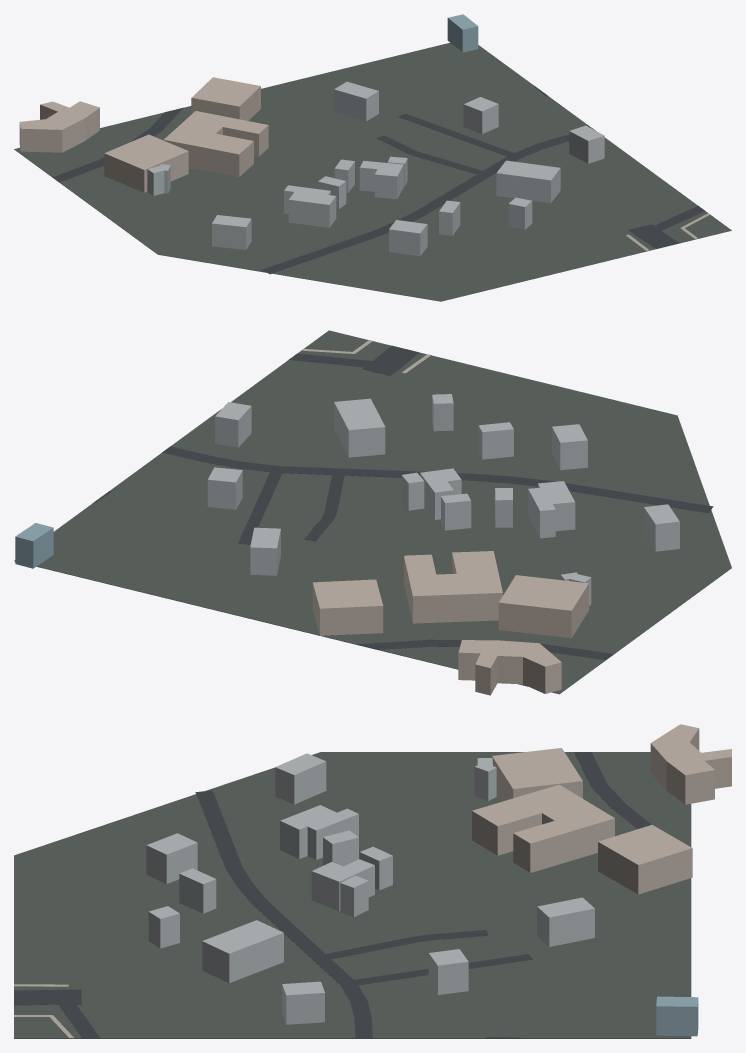
Rendered from tile_002_002.glb.
The picture shows the model from 3 angles, top to bottom: view 1: azimuth 30°, elevation 25°; view 2: azimuth 150°, elevation 25°; view 3: azimuth 270°, elevation 25°; orthographic projection. The views are drawn at different scales.
Parts seen in each view (by area): view 1: tile_002_002_ground, tile_002_002_buildings_neutral, tile_002_002_buildings_residential, tile_002_002_roads, tile_002_002_buildings_office; view 2: tile_002_002_ground, tile_002_002_buildings_residential, tile_002_002_buildings_neutral, tile_002_002_roads, tile_002_002_buildings_office; view 3: tile_002_002_ground, tile_002_002_buildings_neutral, tile_002_002_buildings_residential, tile_002_002_roads, tile_002_002_buildings_office.
Part boxes in pixels (x1,y1,x2,y2): tile_002_002_ground: [14, 42, 731, 301]; tile_002_002_buildings_neutral: [147, 81, 604, 256]; tile_002_002_buildings_residential: [19, 77, 268, 192]; tile_002_002_roads: [53, 86, 704, 274]; tile_002_002_buildings_office: [447, 14, 478, 52]; tile_002_002_ground: [14, 330, 731, 694]; tile_002_002_buildings_residential: [312, 551, 588, 695]; tile_002_002_buildings_neutral: [207, 394, 679, 605]; tile_002_002_roads: [92, 345, 713, 659]; tile_002_002_buildings_office: [15, 523, 53, 568]; tile_002_002_ground: [14, 752, 691, 1038]; tile_002_002_buildings_neutral: [146, 753, 594, 1024]; tile_002_002_buildings_residential: [472, 724, 731, 894]; tile_002_002_roads: [14, 752, 690, 1038]; tile_002_002_buildings_office: [656, 996, 698, 1036].
Bounding box in the file's own units: 250 × 12.16 × 265.
